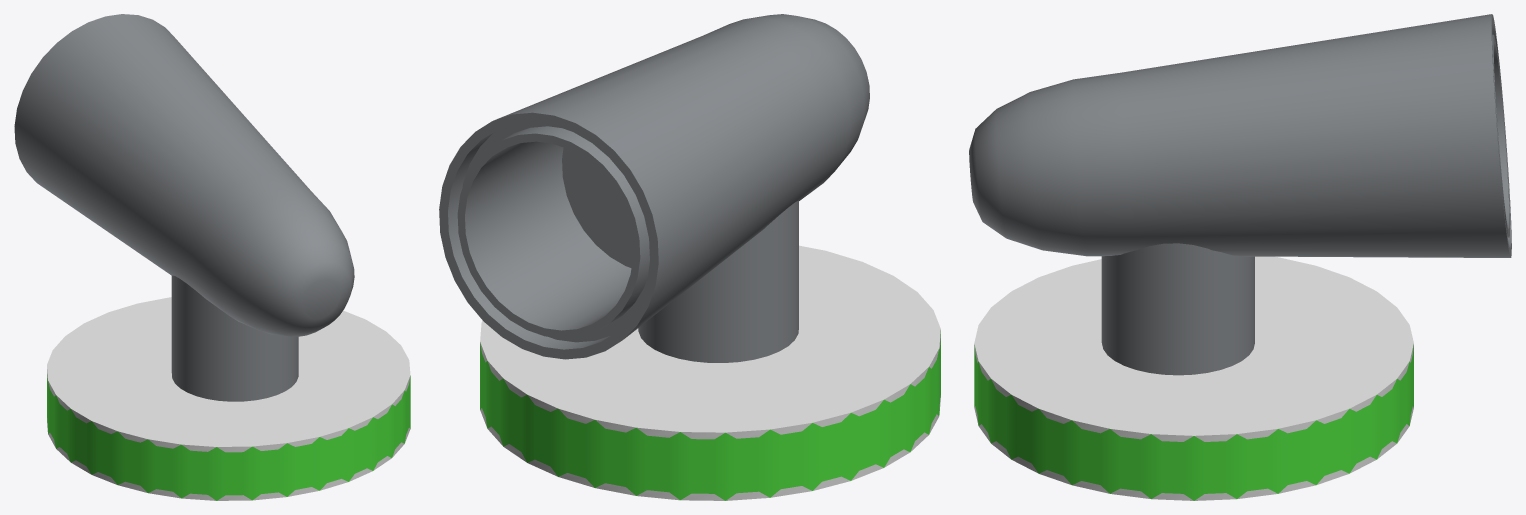
The model's file is Canon.fbx.
3 views of the same model, side by side, from view 1: azimuth 30°, elevation 25°; view 2: azimuth 150°, elevation 25°; view 3: azimuth 270°, elevation 25° (orthographic). The views are drawn at different scales.
Visible parts, largest first — view 1: Cylinder.001, Cylinder, Cylinder.002; view 2: Cylinder.001, Cylinder, Cylinder.002; view 3: Cylinder.001, Cylinder, Cylinder.002.
Boxes of the visible parts, bbox=[...] form: Cylinder.001: bbox=[14, 14, 354, 336]; Cylinder: bbox=[47, 297, 410, 500]; Cylinder.002: bbox=[171, 275, 298, 401]; Cylinder.001: bbox=[439, 14, 869, 359]; Cylinder: bbox=[480, 245, 940, 500]; Cylinder.002: bbox=[638, 200, 798, 362]; Cylinder.001: bbox=[969, 14, 1511, 257]; Cylinder: bbox=[974, 256, 1413, 500]; Cylinder.002: bbox=[1101, 243, 1254, 375].
Bounding box in the file's own units: 809 × 777 × 998.
